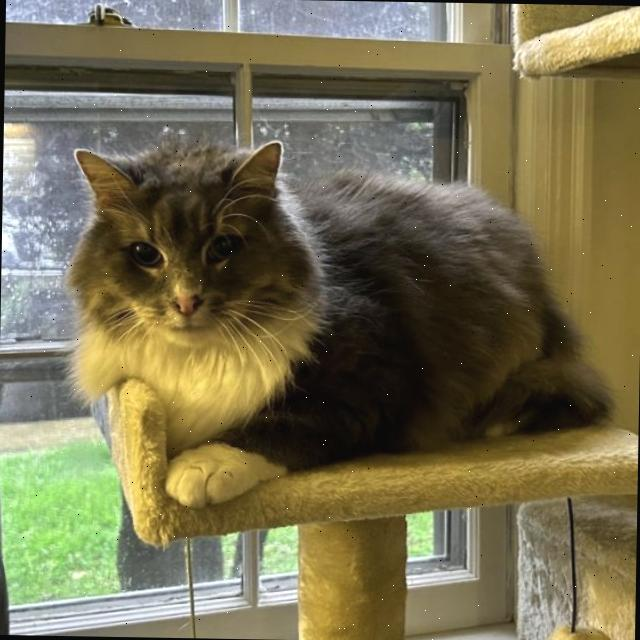maine_coon_cat: (52, 125, 338, 362)
